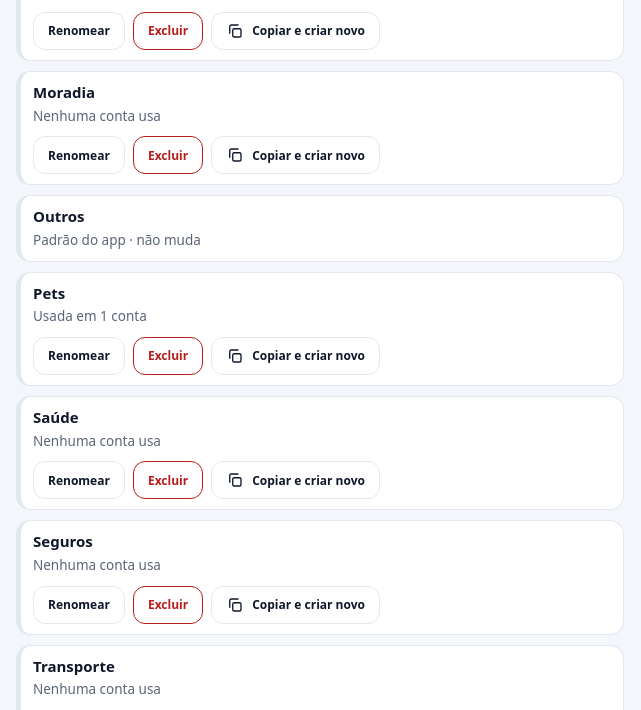
Categorias › cancelar a exclusão não mexe em nada
The width and height of the screenshot is (641, 710).
(page scrolled)
Click the button "Excluir" below "Pets" at (168, 356), box [133, 337, 203, 375]
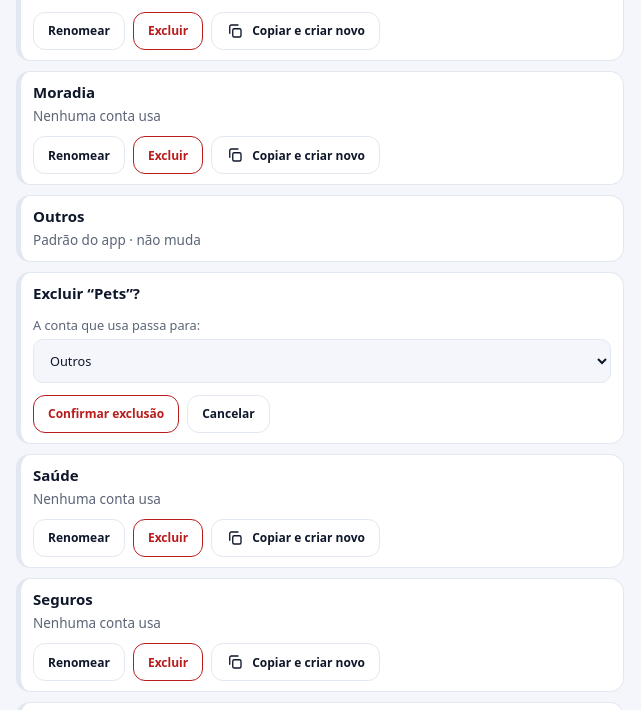
Click the button "Cancelar" at (228, 414), box [187, 395, 270, 433]
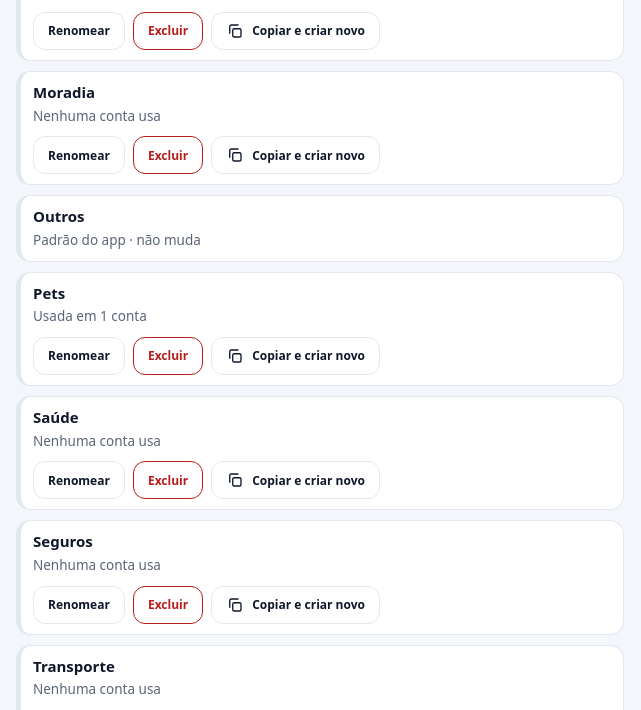
Check: the text "Excluir “Pets”?" is gone
